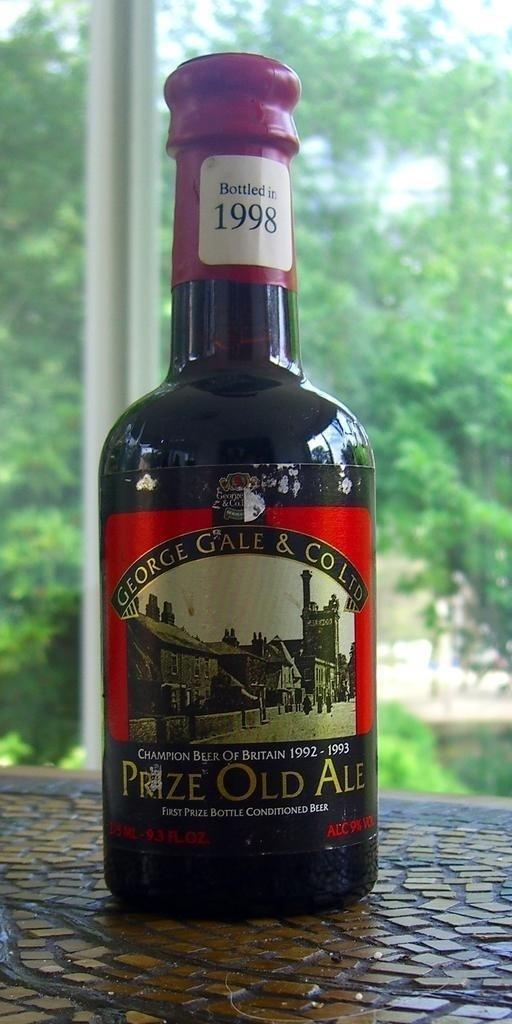bottle-glass: (94, 51, 384, 921)
